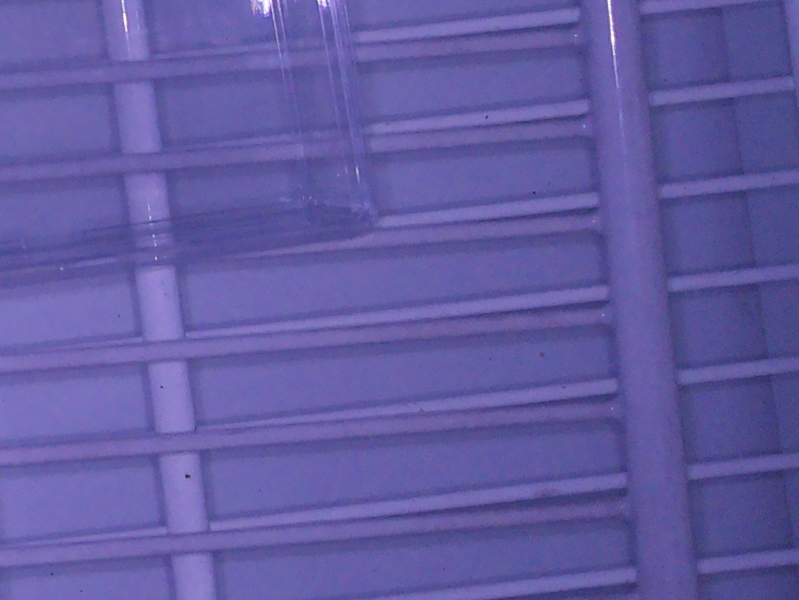plate: (1, 1, 380, 290)
